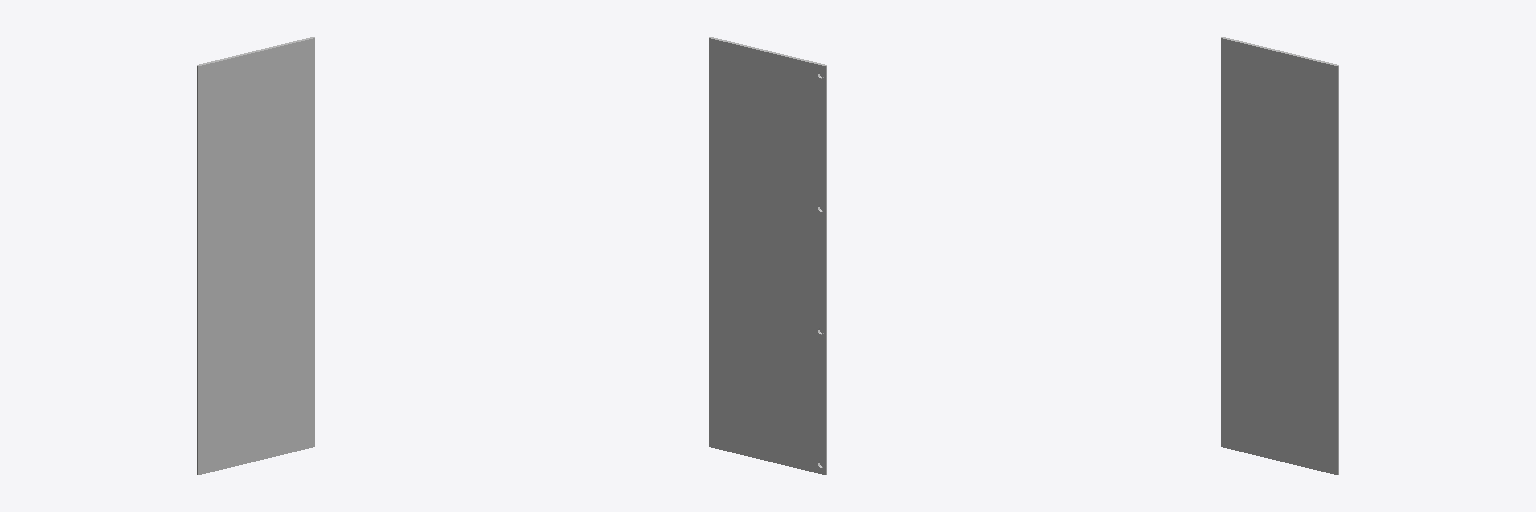
Rendered from IKEA.ART.10205421.obj.
The picture shows the model from 3 angles: view 1: azimuth 30°, elevation 25°; view 2: azimuth 150°, elevation 25°; view 3: azimuth 330°, elevation 25°; orthographic projection.
Visible parts, largest first — view 1: model_model.084; view 2: model_model.084; view 3: model_model.084.
Part boxes in pixels (left/top/right/bottom): model_model.084: left=197, top=37, right=314, bottom=474; model_model.084: left=709, top=37, right=826, bottom=474; model_model.084: left=1221, top=37, right=1338, bottom=474.
Bounding box in the file's own units: 0.597 × 2 × 0.016.